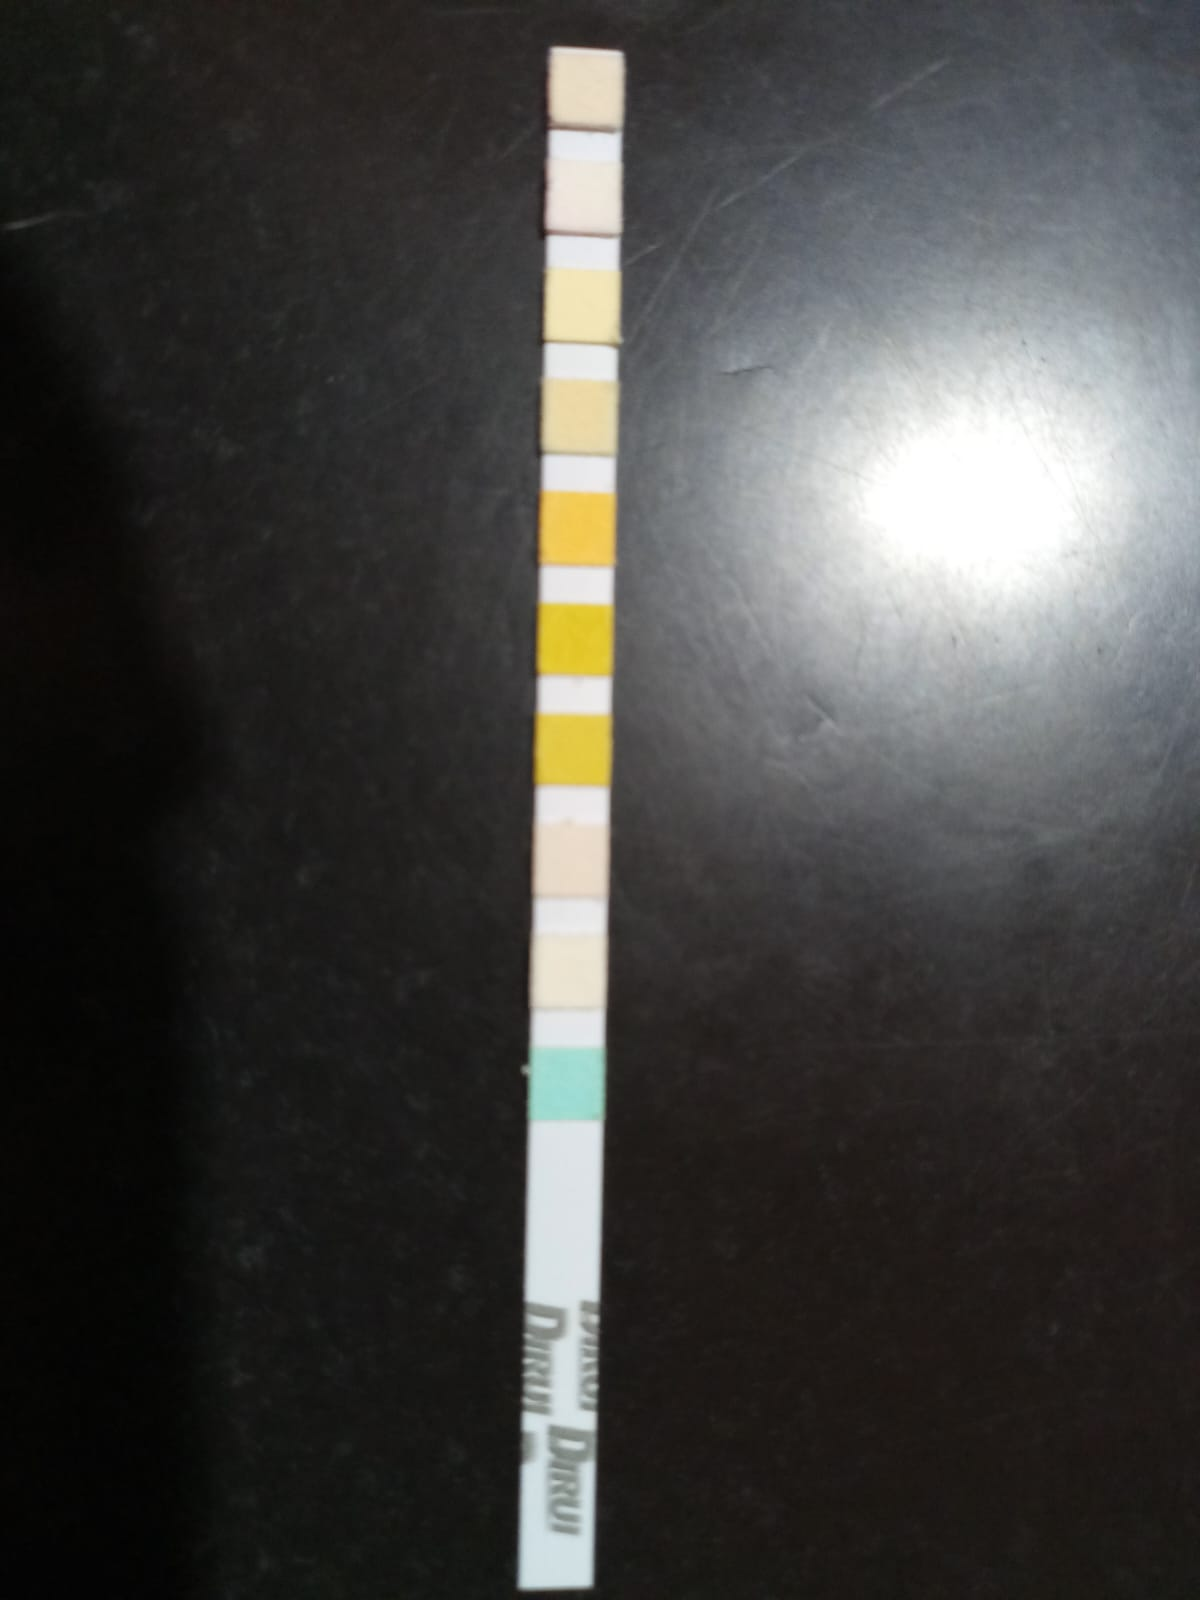color 1: (553, 54, 619, 121)
color 10: (533, 1053, 601, 1117)
color 2: (550, 168, 616, 226)
color 3: (550, 276, 616, 336)
color 4: (547, 387, 614, 449)
color 5: (545, 496, 610, 562)
color 6: (541, 609, 610, 671)
color 7: (539, 718, 608, 781)
color 8: (537, 829, 604, 889)
color 9: (536, 941, 601, 1002)
